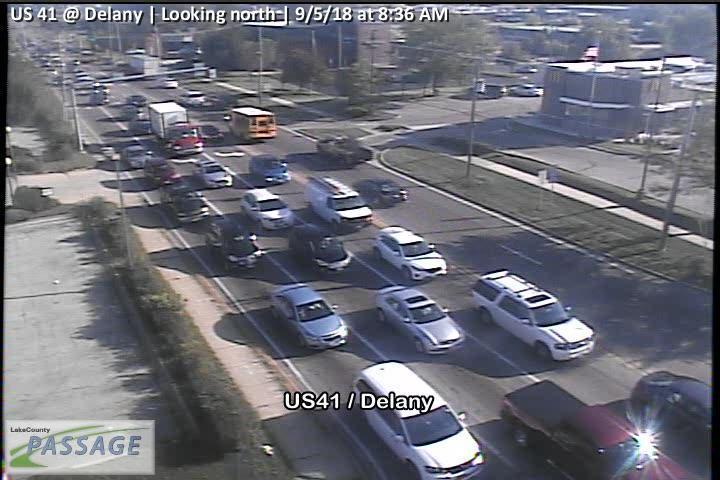SUV: (353, 361, 485, 480), (473, 269, 595, 364), (304, 173, 373, 232), (372, 226, 446, 279), (289, 223, 352, 274), (205, 217, 262, 272), (239, 188, 294, 233), (160, 179, 209, 225), (249, 155, 291, 184), (143, 157, 180, 186)
Sedan: (375, 284, 465, 354), (633, 369, 711, 444), (269, 281, 347, 350), (351, 177, 408, 209), (192, 159, 231, 188), (121, 144, 151, 169), (178, 90, 206, 106)
Truck: (500, 378, 687, 480), (148, 101, 204, 156), (224, 107, 278, 143)
